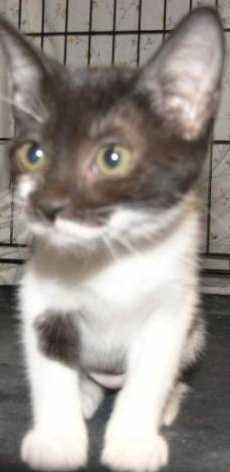Cat: (0, 41, 211, 285)
